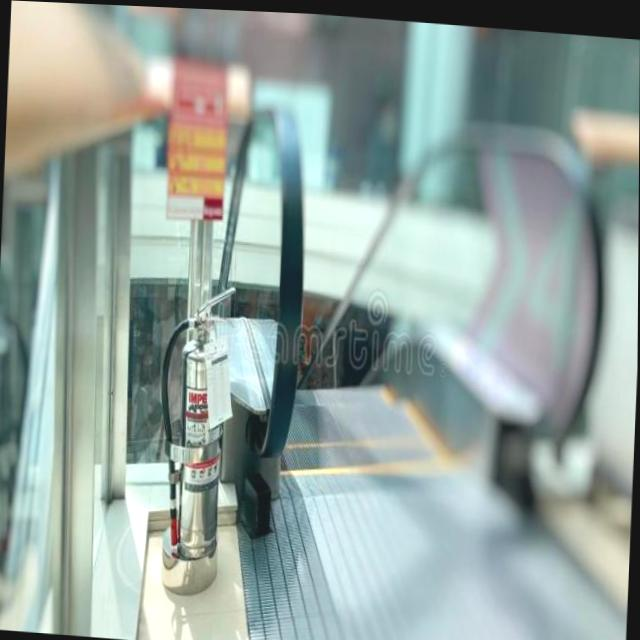FireExtinguisher: (151, 271, 241, 566)
